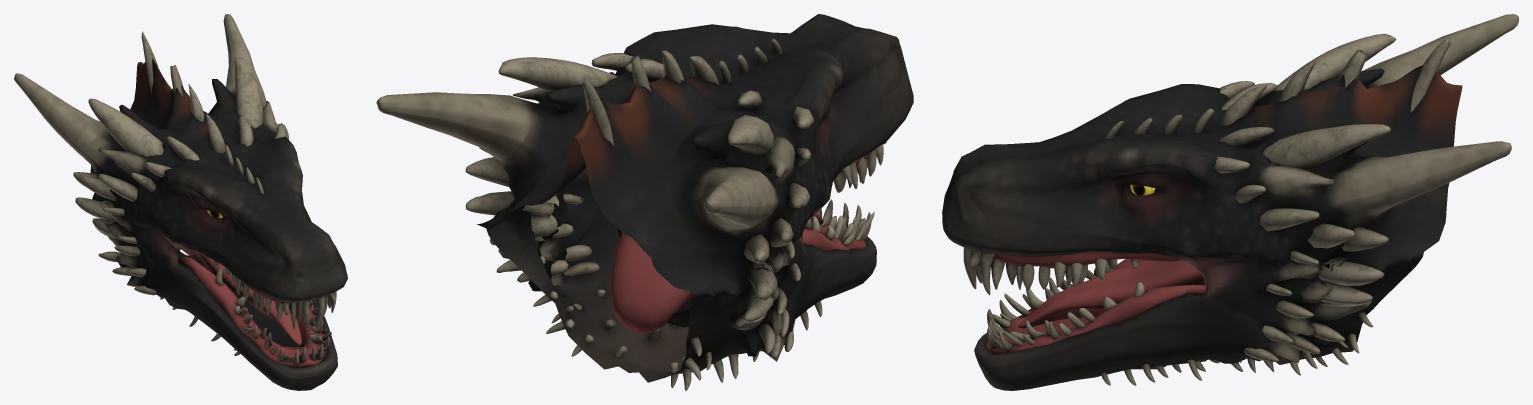
Rendered from dragon_00008.obj.
3 views of the same model, side by side, from view 1: azimuth 30°, elevation 25°; view 2: azimuth 150°, elevation 25°; view 3: azimuth 270°, elevation 25° (orthographic). The views are drawn at different scales.
Visible parts, largest first — view 1: Dragon_Untitled; view 2: Dragon_Untitled; view 3: Dragon_Untitled.
Part boxes in pixels (x1=…): Dragon_Untitled: x1=14, y1=14, x2=347, y2=390; Dragon_Untitled: x1=376, y1=14, x2=913, y2=390; Dragon_Untitled: x1=942, y1=14, x2=1518, y2=390.
Size of the model in its own units: 2.72 by 2.96 by 4.45.
